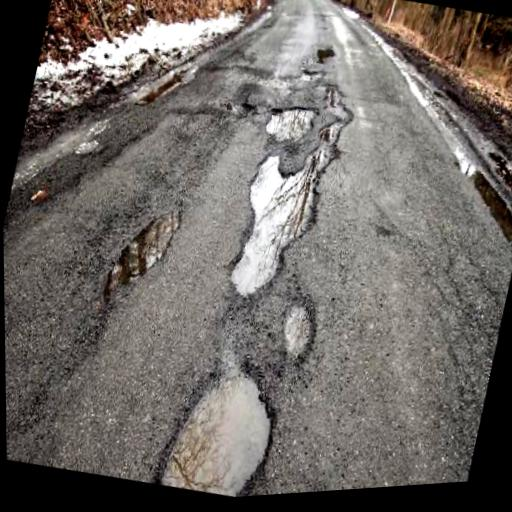pothole: (153, 347, 293, 502), (223, 145, 333, 310), (97, 188, 189, 317), (306, 74, 360, 169), (274, 293, 323, 368), (261, 94, 320, 149), (296, 62, 326, 87)
